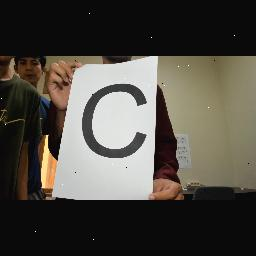c: (80, 81, 148, 163)
